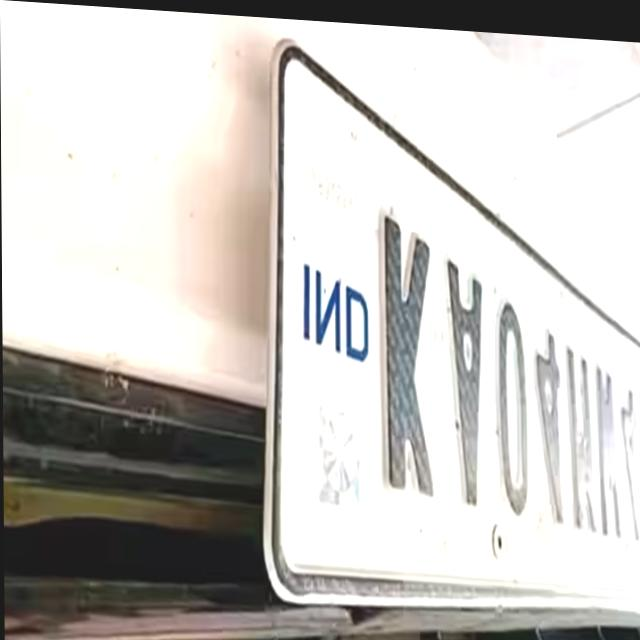0: (497, 282, 528, 516)
4: (536, 322, 562, 522), (620, 374, 640, 539)
a: (449, 251, 490, 512)
d: (345, 278, 370, 361)
i: (299, 254, 313, 342)
k: (378, 212, 438, 505)
m: (567, 337, 592, 531)
n: (312, 267, 342, 343)
w: (596, 359, 622, 535)
